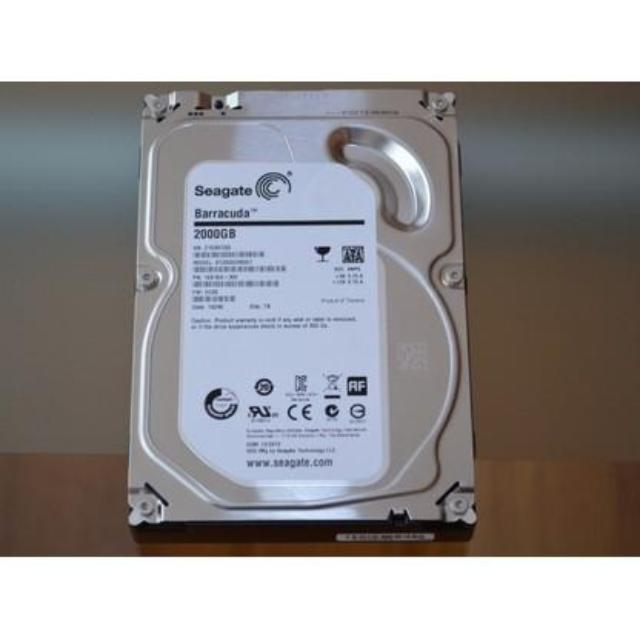DISK: (126, 92, 474, 536)
